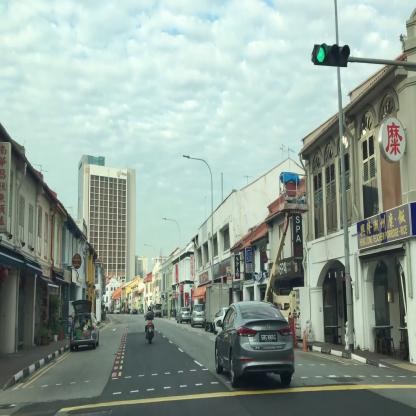green_traffic_light: (315, 47, 346, 63)
